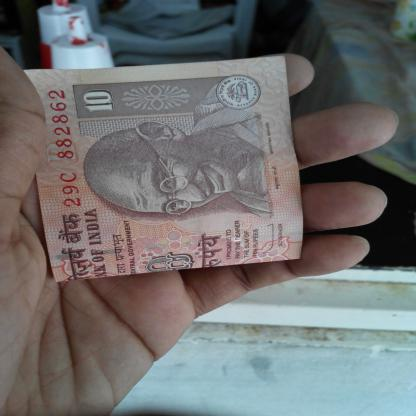Old10Front: (21, 54, 306, 284)
